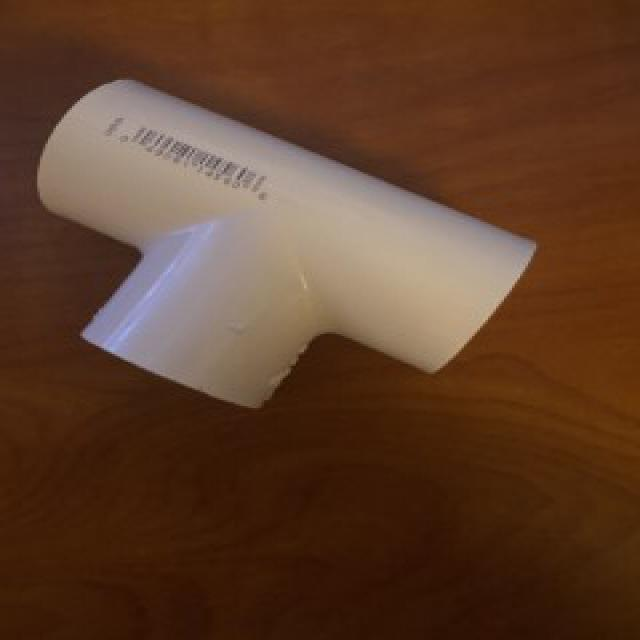T Joint: (35, 78, 538, 411)
